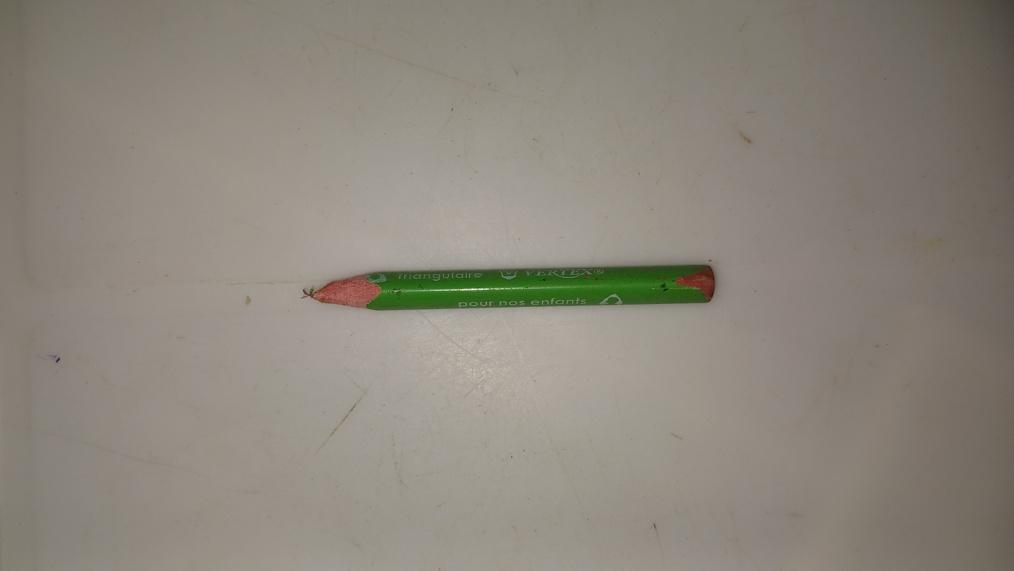Pencil: (303, 268, 717, 311)
